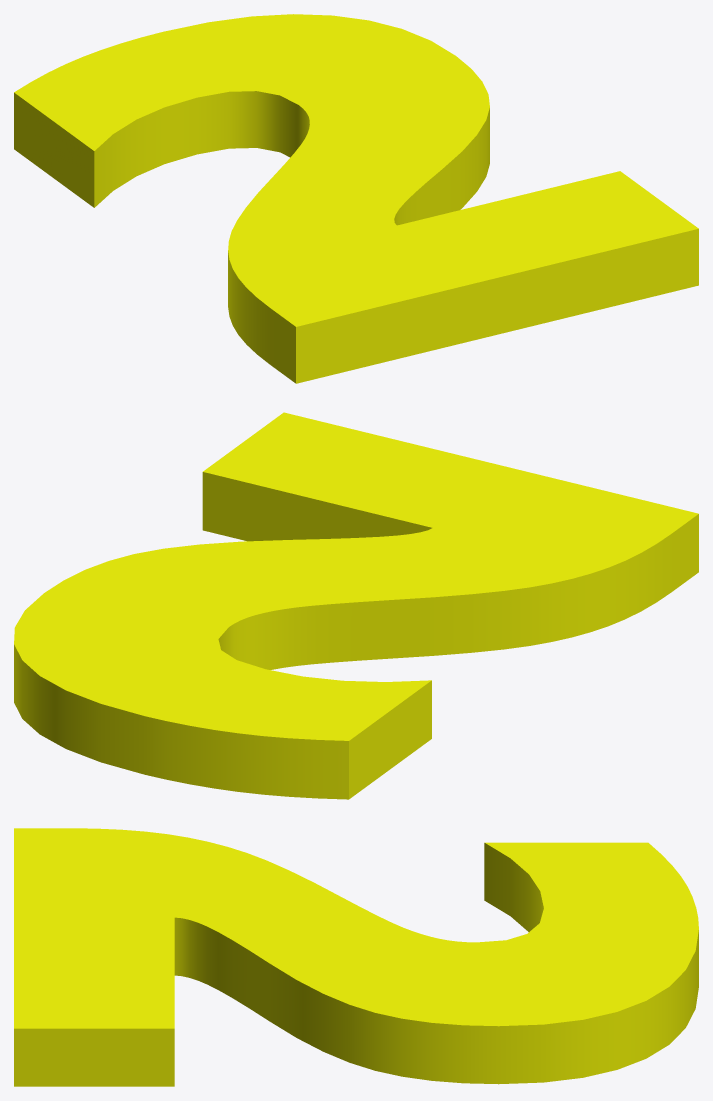
File: NumberModel_2.gltf
3 views of the same model, one above another, from view 1: azimuth 30°, elevation 25°; view 2: azimuth 150°, elevation 25°; view 3: azimuth 270°, elevation 25° (orthographic). The views are drawn at different scales.
Parts seen in each view (by area): view 1: NumberModel_2; view 2: NumberModel_2; view 3: NumberModel_2.
Boxes of the visible parts, x1,y1,x2,y2 form: NumberModel_2: (14,14,698,383); NumberModel_2: (14,412,698,799); NumberModel_2: (14,828,698,1086).
Size of the model in its own units: 0.5667 by 0.0764 by 0.818.
